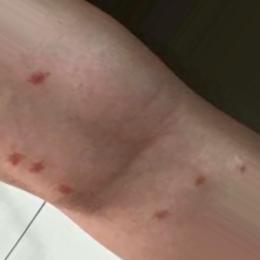Fleas: (25, 65, 49, 88), (52, 182, 75, 202), (3, 151, 27, 166), (25, 161, 43, 173), (152, 210, 169, 220), (192, 174, 205, 184), (236, 163, 247, 174)
